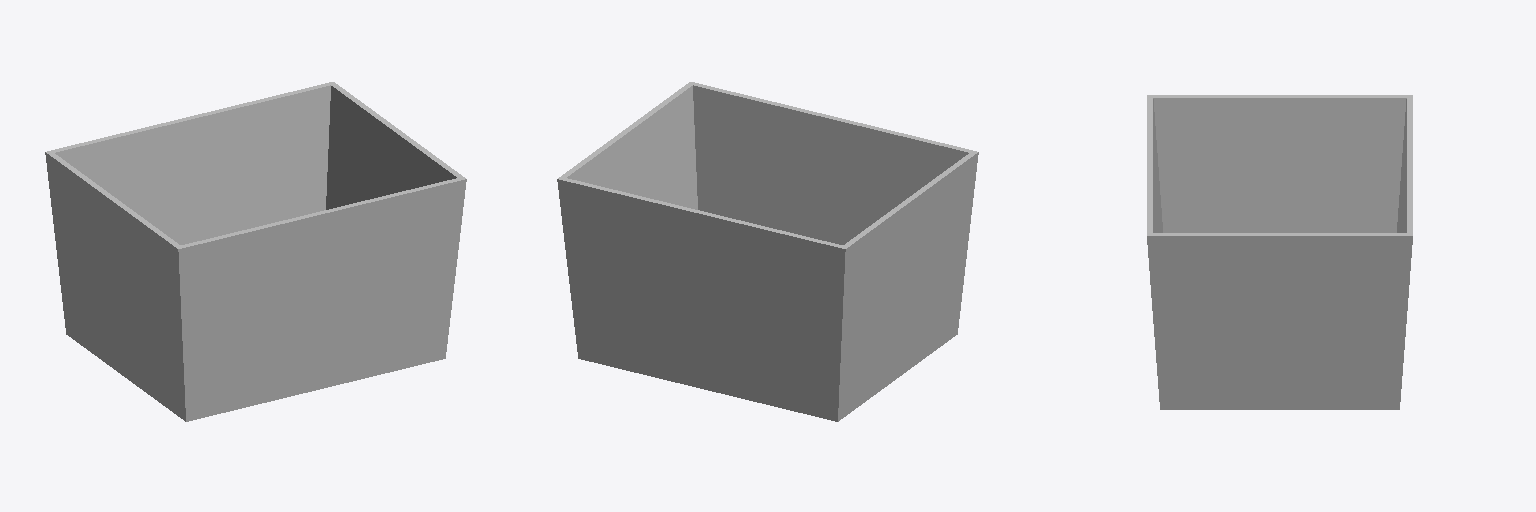
3 views of the same model, side by side, from view 1: azimuth 30°, elevation 25°; view 2: azimuth 150°, elevation 25°; view 3: azimuth 270°, elevation 25° (orthographic).
Visible parts, largest first — view 1: Tote1; view 2: Tote1; view 3: Tote1.
Boxes of the visible parts, box(x1,y1,x2,y2) form: Tote1: box(45, 82, 466, 421); Tote1: box(557, 82, 978, 421); Tote1: box(1147, 95, 1412, 409).
Size of the model in its own units: 0.5 by 0.3 by 0.4.